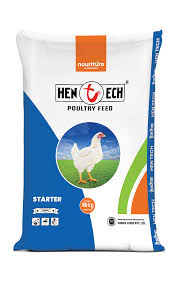feed_bag: (9, 23, 173, 260)
